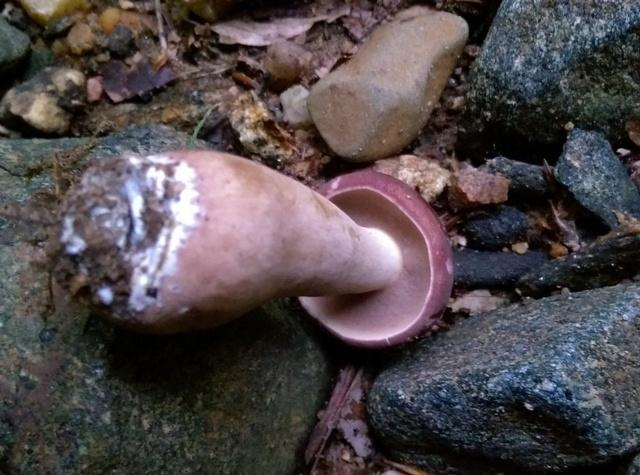poisonous_mushroom: (54, 146, 455, 348)
